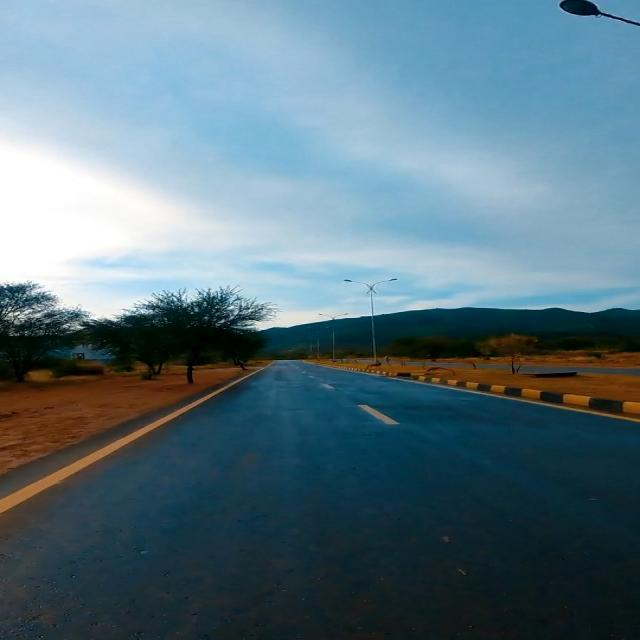lane: (0, 361, 273, 513)
road: (2, 361, 638, 639), (0, 361, 273, 513)
